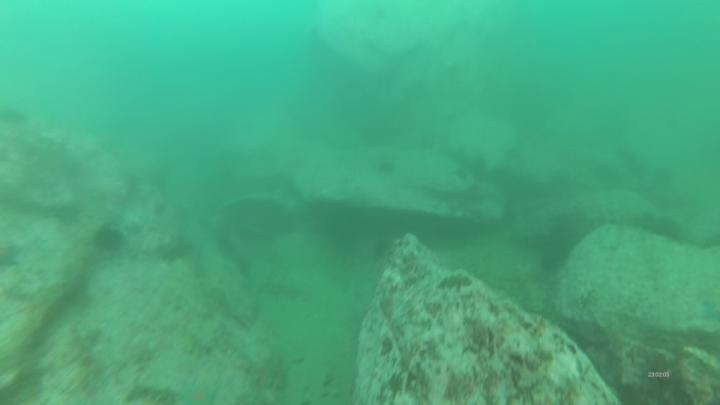echinus: (100, 229, 123, 253)
holothurian: (123, 383, 174, 405)
